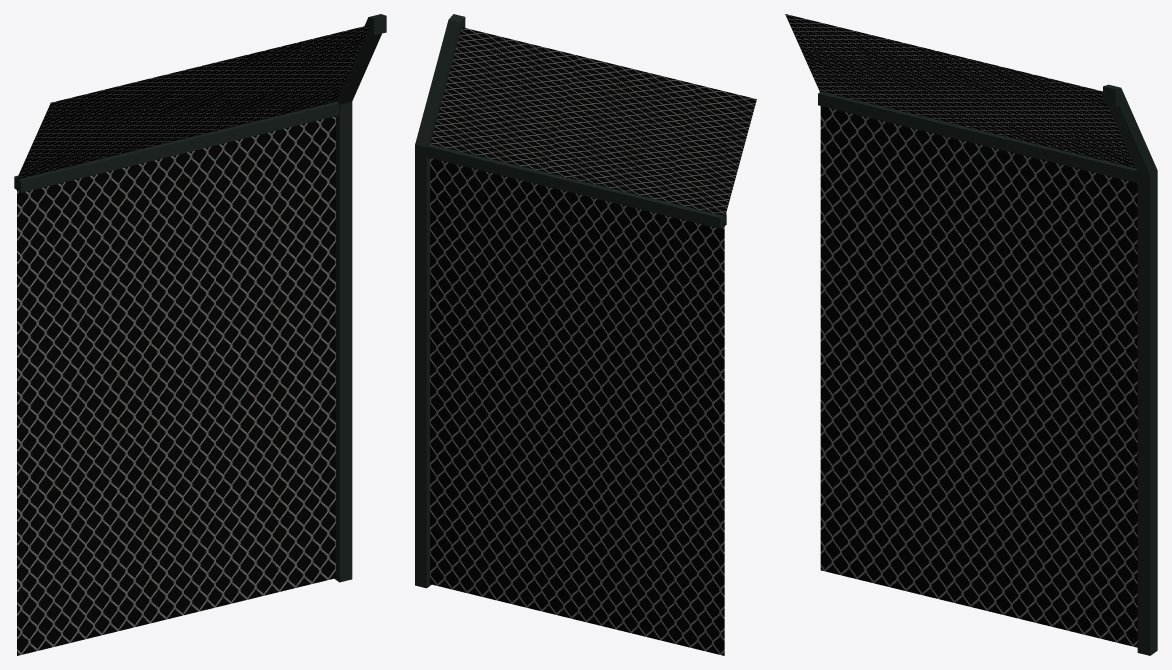
Rendered from fence.fbx.
3 views of the same model, side by side, from view 1: azimuth 30°, elevation 25°; view 2: azimuth 150°, elevation 25°; view 3: azimuth 330°, elevation 25° (orthographic). The views are drawn at different scales.
Parts seen in each view (by area): view 1: Plane, Plane.001, Cube, Cube.001; view 2: Plane, Plane.001, Cube, Cube.001; view 3: Plane, Plane.001, Cube, Cube.001.
Part boxes in pixels (x1,y1,x2,y2): Plane: [17, 116, 335, 655]; Plane.001: [16, 25, 370, 181]; Cube: [334, 14, 386, 582]; Cube.001: [14, 101, 338, 192]; Plane: [430, 158, 724, 655]; Plane.001: [430, 27, 756, 218]; Cube: [415, 14, 465, 588]; Cube.001: [427, 144, 726, 228]; Plane: [820, 106, 1137, 647]; Plane.001: [785, 14, 1135, 168]; Cube: [1103, 84, 1157, 655]; Cube.001: [818, 91, 1137, 183].
Bounding box in the file's own units: 694 × 1175 × 151.
Materials: 3 (2 with a texture image).
